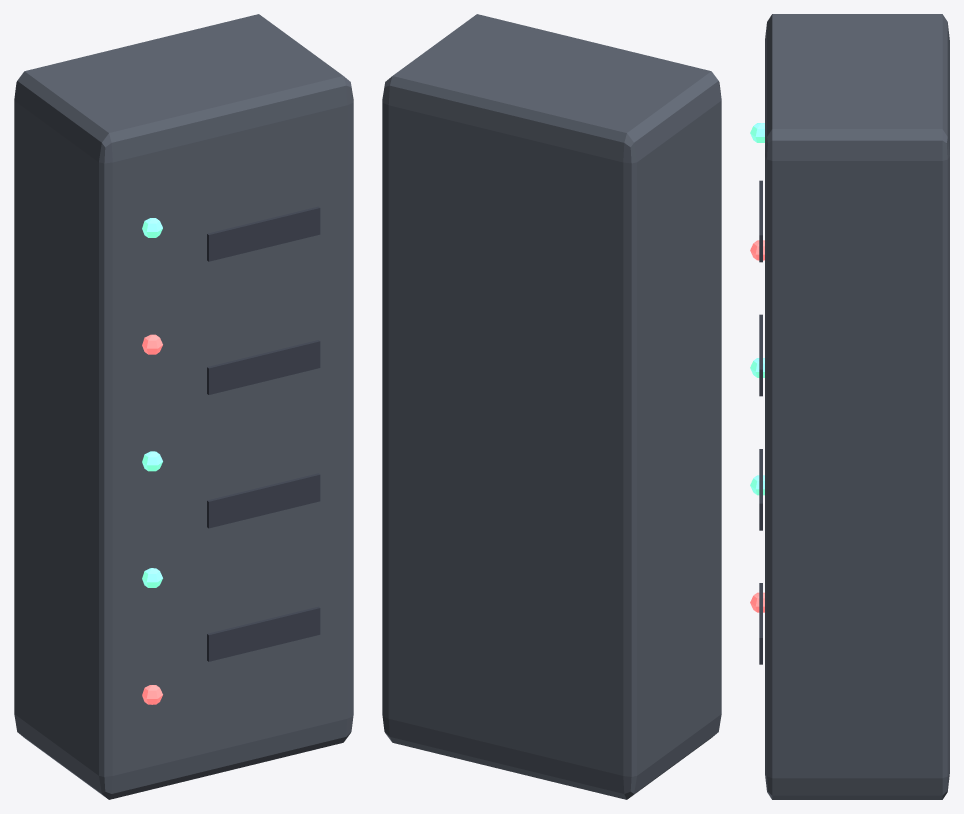
File: server_rack.glb
3 views of the same model, side by side, from view 1: azimuth 30°, elevation 25°; view 2: azimuth 150°, elevation 25°; view 3: azimuth 270°, elevation 25° (orthographic).
Visible parts, largest first — view 1: ServerFrame, Slot_3, Slot_1, Slot_0, Slot_2; view 2: ServerFrame; view 3: ServerFrame.
Part boxes in pixels (box(x1,y1,x2,y2)): ServerFrame: box(14, 14, 353, 799); Slot_3: box(207, 206, 320, 261); Slot_1: box(207, 473, 320, 528); Slot_0: box(207, 606, 320, 661); Slot_2: box(207, 340, 320, 394); ServerFrame: box(382, 14, 721, 799); ServerFrame: box(765, 14, 949, 799).
Size of the model in its own units: 0.8 by 2 by 0.54.
